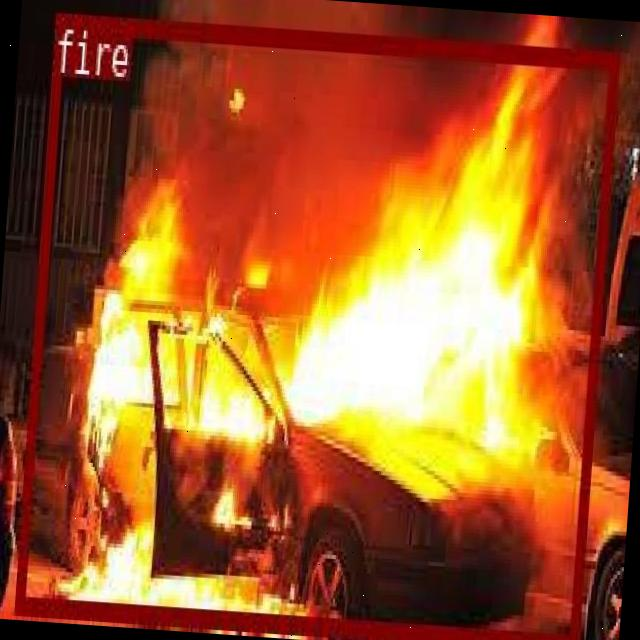fire: (12, 8, 619, 640)
